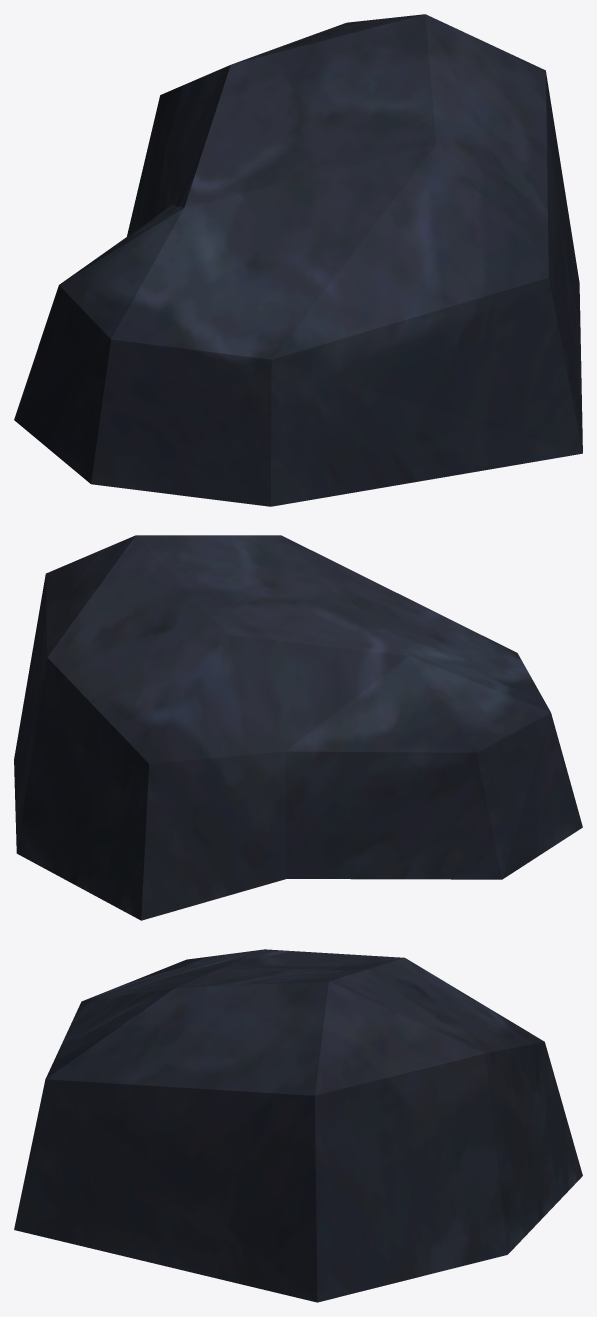
File: mine_rock_01.fbx
3 views of the same model, one above another, from view 1: azimuth 30°, elevation 25°; view 2: azimuth 150°, elevation 25°; view 3: azimuth 270°, elevation 25° (orthographic). The views are drawn at different scales.
Parts seen in each view (by area): view 1: mine_tileset/rubble_rocks_01_shadow; view 2: mine_tileset/rubble_rocks_01_shadow; view 3: mine_tileset/rubble_rocks_01_shadow.
Boxes of the visible parts, bbox=[...] form: mine_tileset/rubble_rocks_01_shadow: bbox=[14, 14, 582, 506]; mine_tileset/rubble_rocks_01_shadow: bbox=[14, 535, 582, 920]; mine_tileset/rubble_rocks_01_shadow: bbox=[14, 949, 582, 1302].
Bounding box in the file's own units: 0.7832 × 0.3919 × 0.7804.
